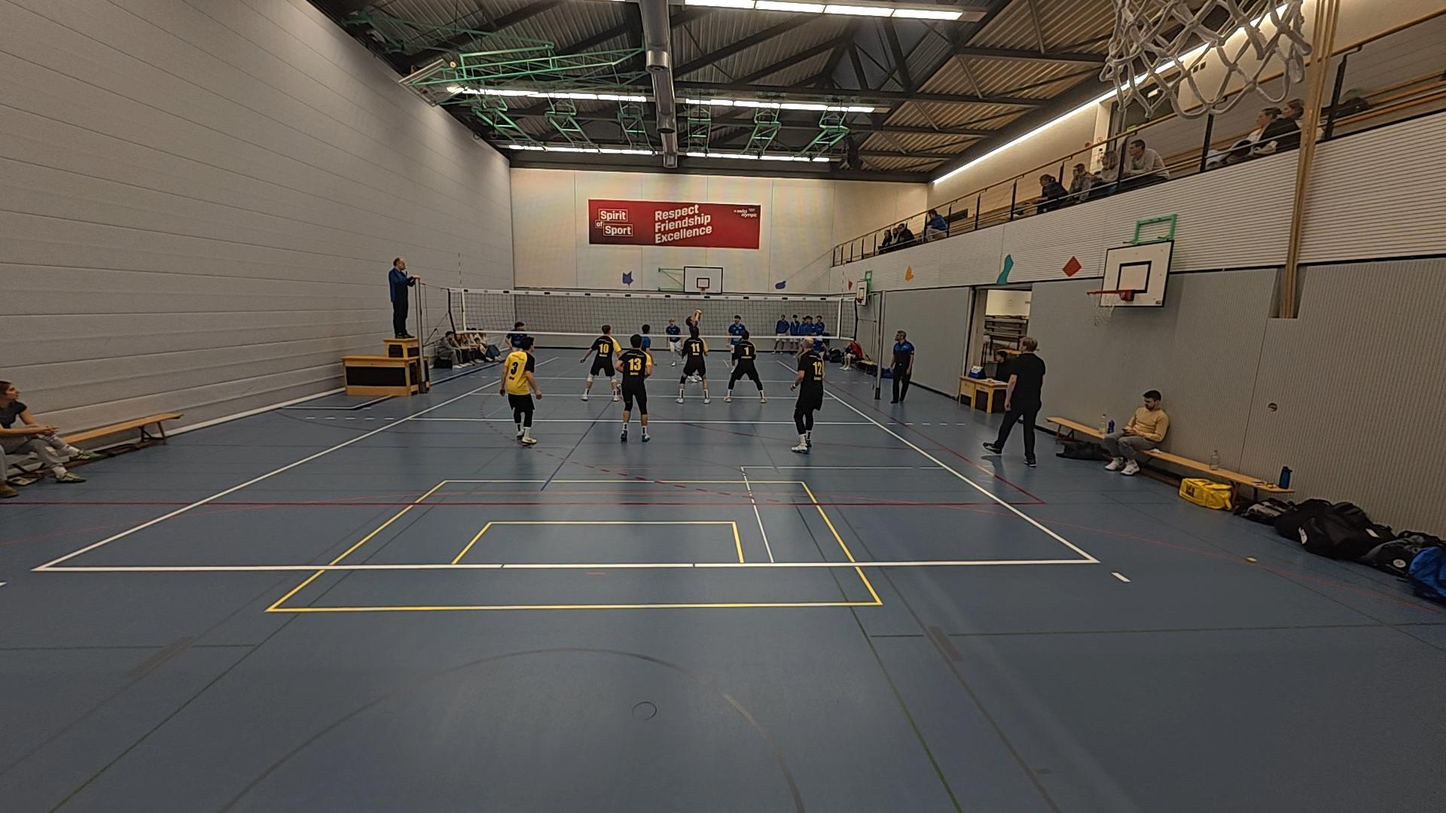Player: (501, 340, 543, 445), (789, 341, 826, 454), (616, 332, 653, 443), (721, 328, 765, 403), (614, 322, 657, 393), (581, 324, 619, 402), (676, 324, 710, 402), (791, 331, 828, 381), (664, 315, 685, 366), (505, 318, 532, 355), (725, 315, 750, 352)
Set: (684, 311, 705, 384)
ball: (691, 308, 703, 321)
